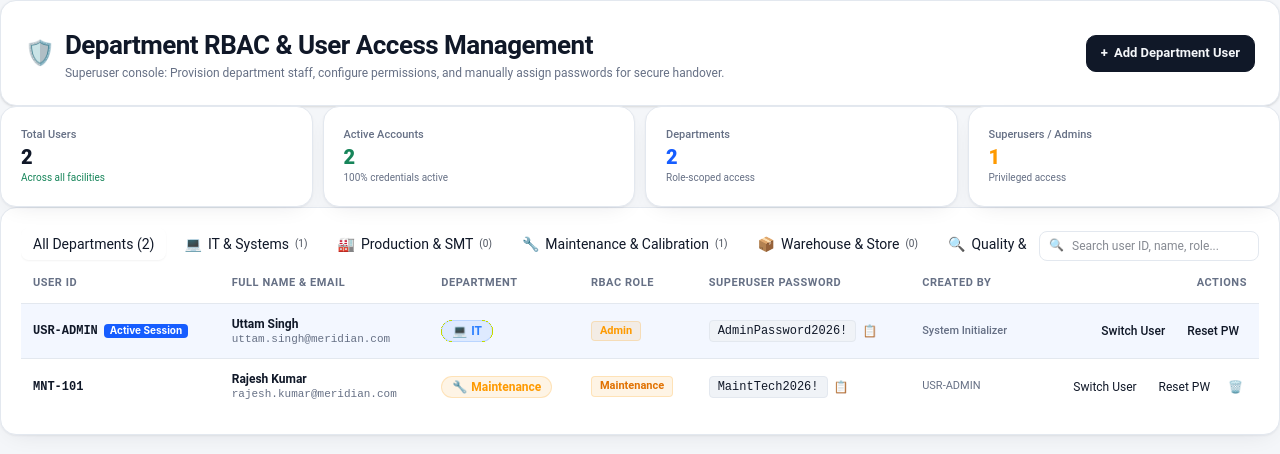
Test: Department RBAC & User Management Specification › filters users by department tab
This screenshot has width=1280, height=454.
Click the button "🔧 Maintenance & Calibration (1)" at (625,244), box x1=510 y1=228 x2=740 y2=260
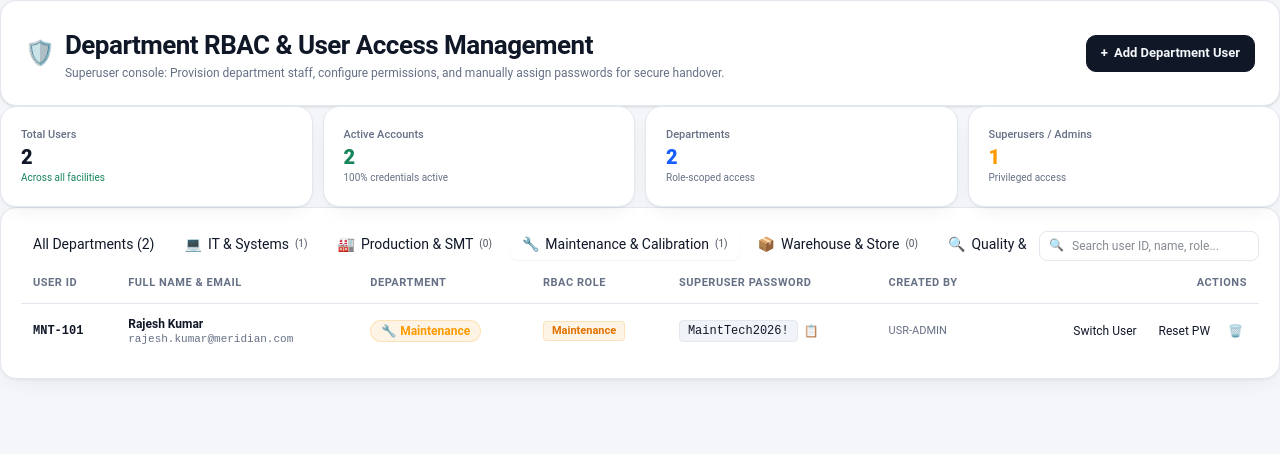
Expected: the text "MNT-101" is shown, x1=33 y1=323 x2=83 y2=339
Result: the text "Uttam Singh" is gone
